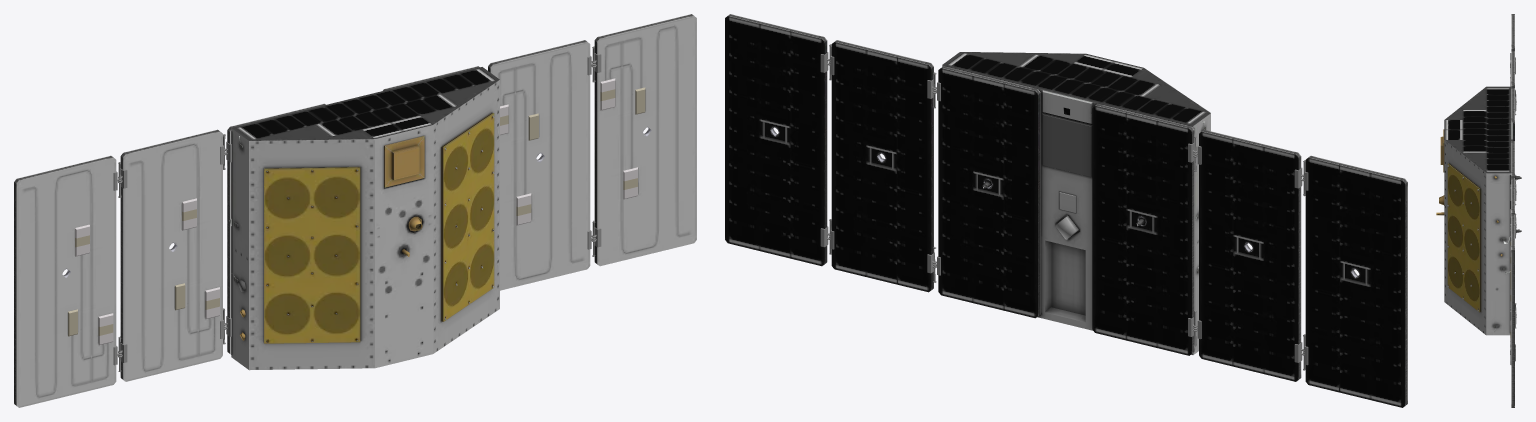
Rendered from cygnss.glb.
3 views of the same model, side by side, from view 1: azimuth 30°, elevation 25°; view 2: azimuth 150°, elevation 25°; view 3: azimuth 270°, elevation 25° (orthographic). The views are drawn at different scales.
Parts seen in each view (by area): view 1: BUS, antenna_screws; view 2: BUS; view 3: BUS, antenna_screws.
Boxes of the visible parts, x1,y1,x2,y2 form: BUS: (14, 14, 696, 407); antenna_screws: (68, 78, 645, 345); BUS: (725, 14, 1407, 407); BUS: (1436, 14, 1521, 407); antenna_screws: (1447, 78, 1511, 344).
Bounding box in the file's own units: 1.59 × 0.512 × 0.2441.
3 materials, 3 textured.
